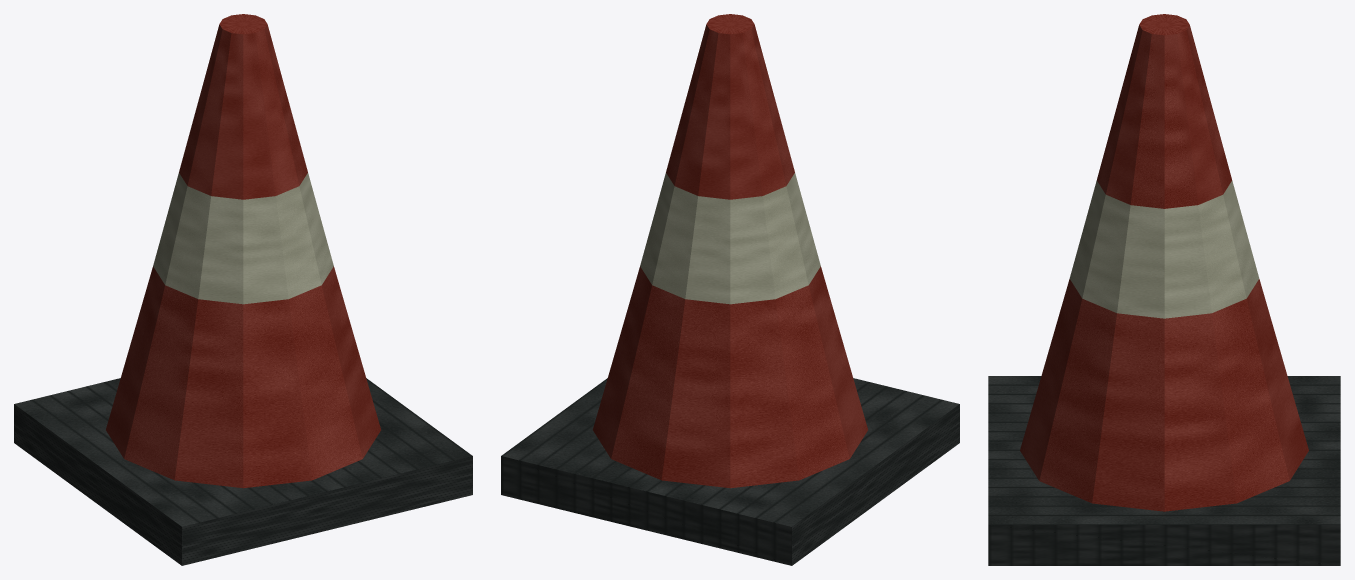
Rendered from TrafficCone.glb.
3 renders of one model, left to right at view 1: azimuth 30°, elevation 25°; view 2: azimuth 150°, elevation 25°; view 3: azimuth 270°, elevation 25°, orthographic. The views are drawn at different scales.
Visible parts, largest first — view 1: TrafficCone; view 2: TrafficCone; view 3: TrafficCone.
Part boxes in pixels (x1=…): TrafficCone: x1=14, y1=14, x2=472, y2=565; TrafficCone: x1=501, y1=14, x2=959, y2=565; TrafficCone: x1=988, y1=14, x2=1340, y2=565.
Bounding box in the file's own units: 0.39 × 0.57 × 0.39.
3 materials, 3 textured.
